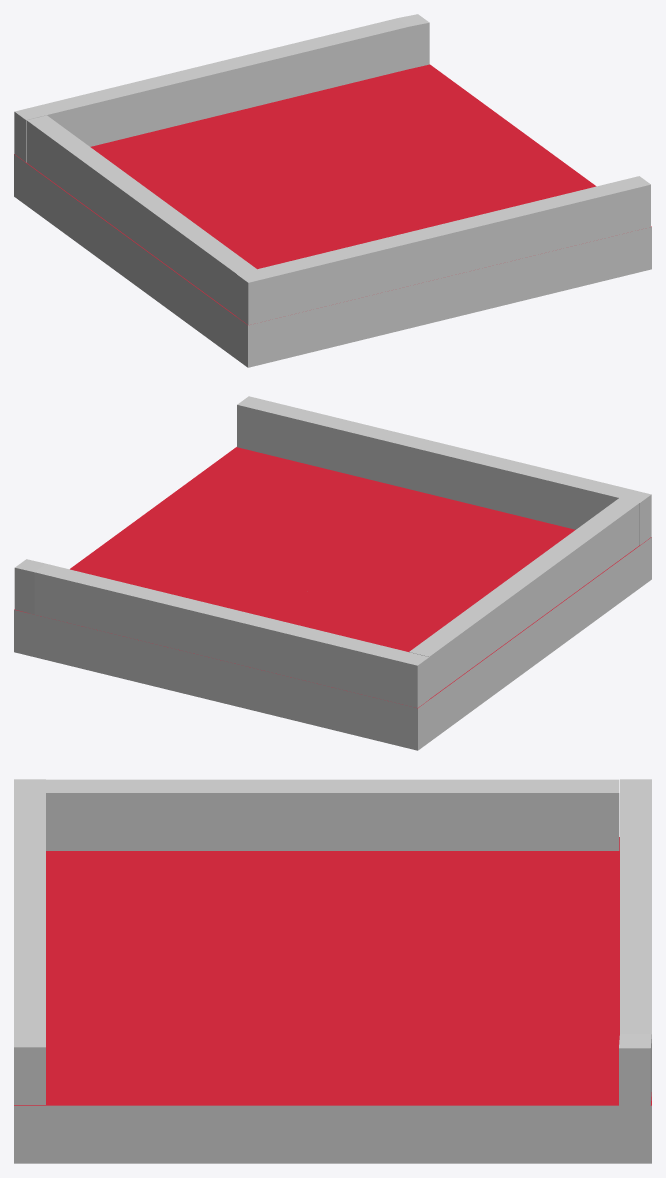
The model's file is FinishPanel.fbx.
The picture shows the model from 3 angles, top to bottom: view 1: azimuth 30°, elevation 25°; view 2: azimuth 150°, elevation 25°; view 3: azimuth 270°, elevation 25°; orthographic projection. The views are drawn at different scales.
Parts seen in each view (by area): view 1: Cube.002; view 2: Cube.002; view 3: Cube.002.
Part boxes in pixels (left/top/right/bottom): Cube.002: left=14, top=14, right=651, bottom=367; Cube.002: left=14, top=396, right=651, bottom=750; Cube.002: left=14, top=779, right=651, bottom=1163.
Size of the model in its own units: 996 by 200 by 1000.
